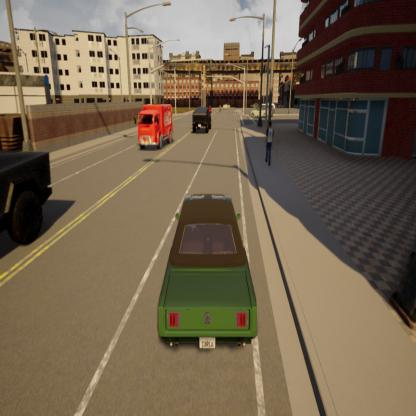Cars: (158, 193, 258, 348), (0, 151, 52, 249), (138, 103, 172, 153), (192, 106, 212, 135), (250, 105, 272, 122), (258, 103, 277, 117), (223, 104, 232, 112), (207, 107, 213, 115)
Pedestrian: (266, 118, 274, 167), (218, 102, 223, 114)
